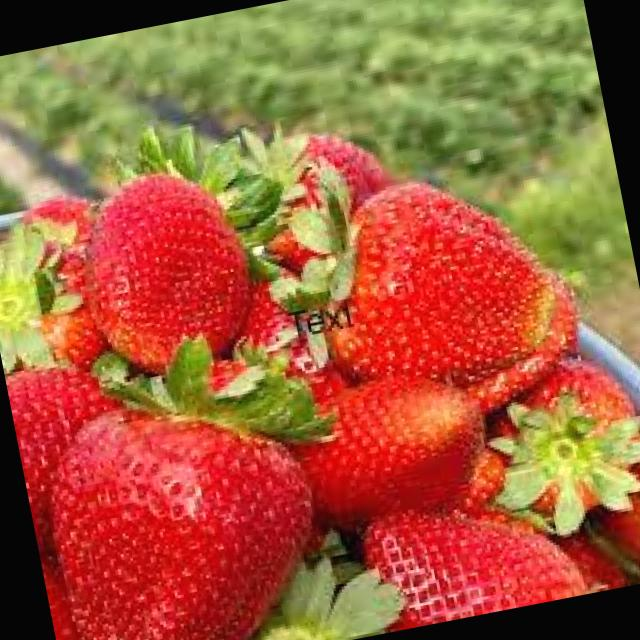strawberry: (31, 376, 338, 640), (300, 154, 585, 434), (53, 161, 270, 383), (280, 357, 500, 541)
